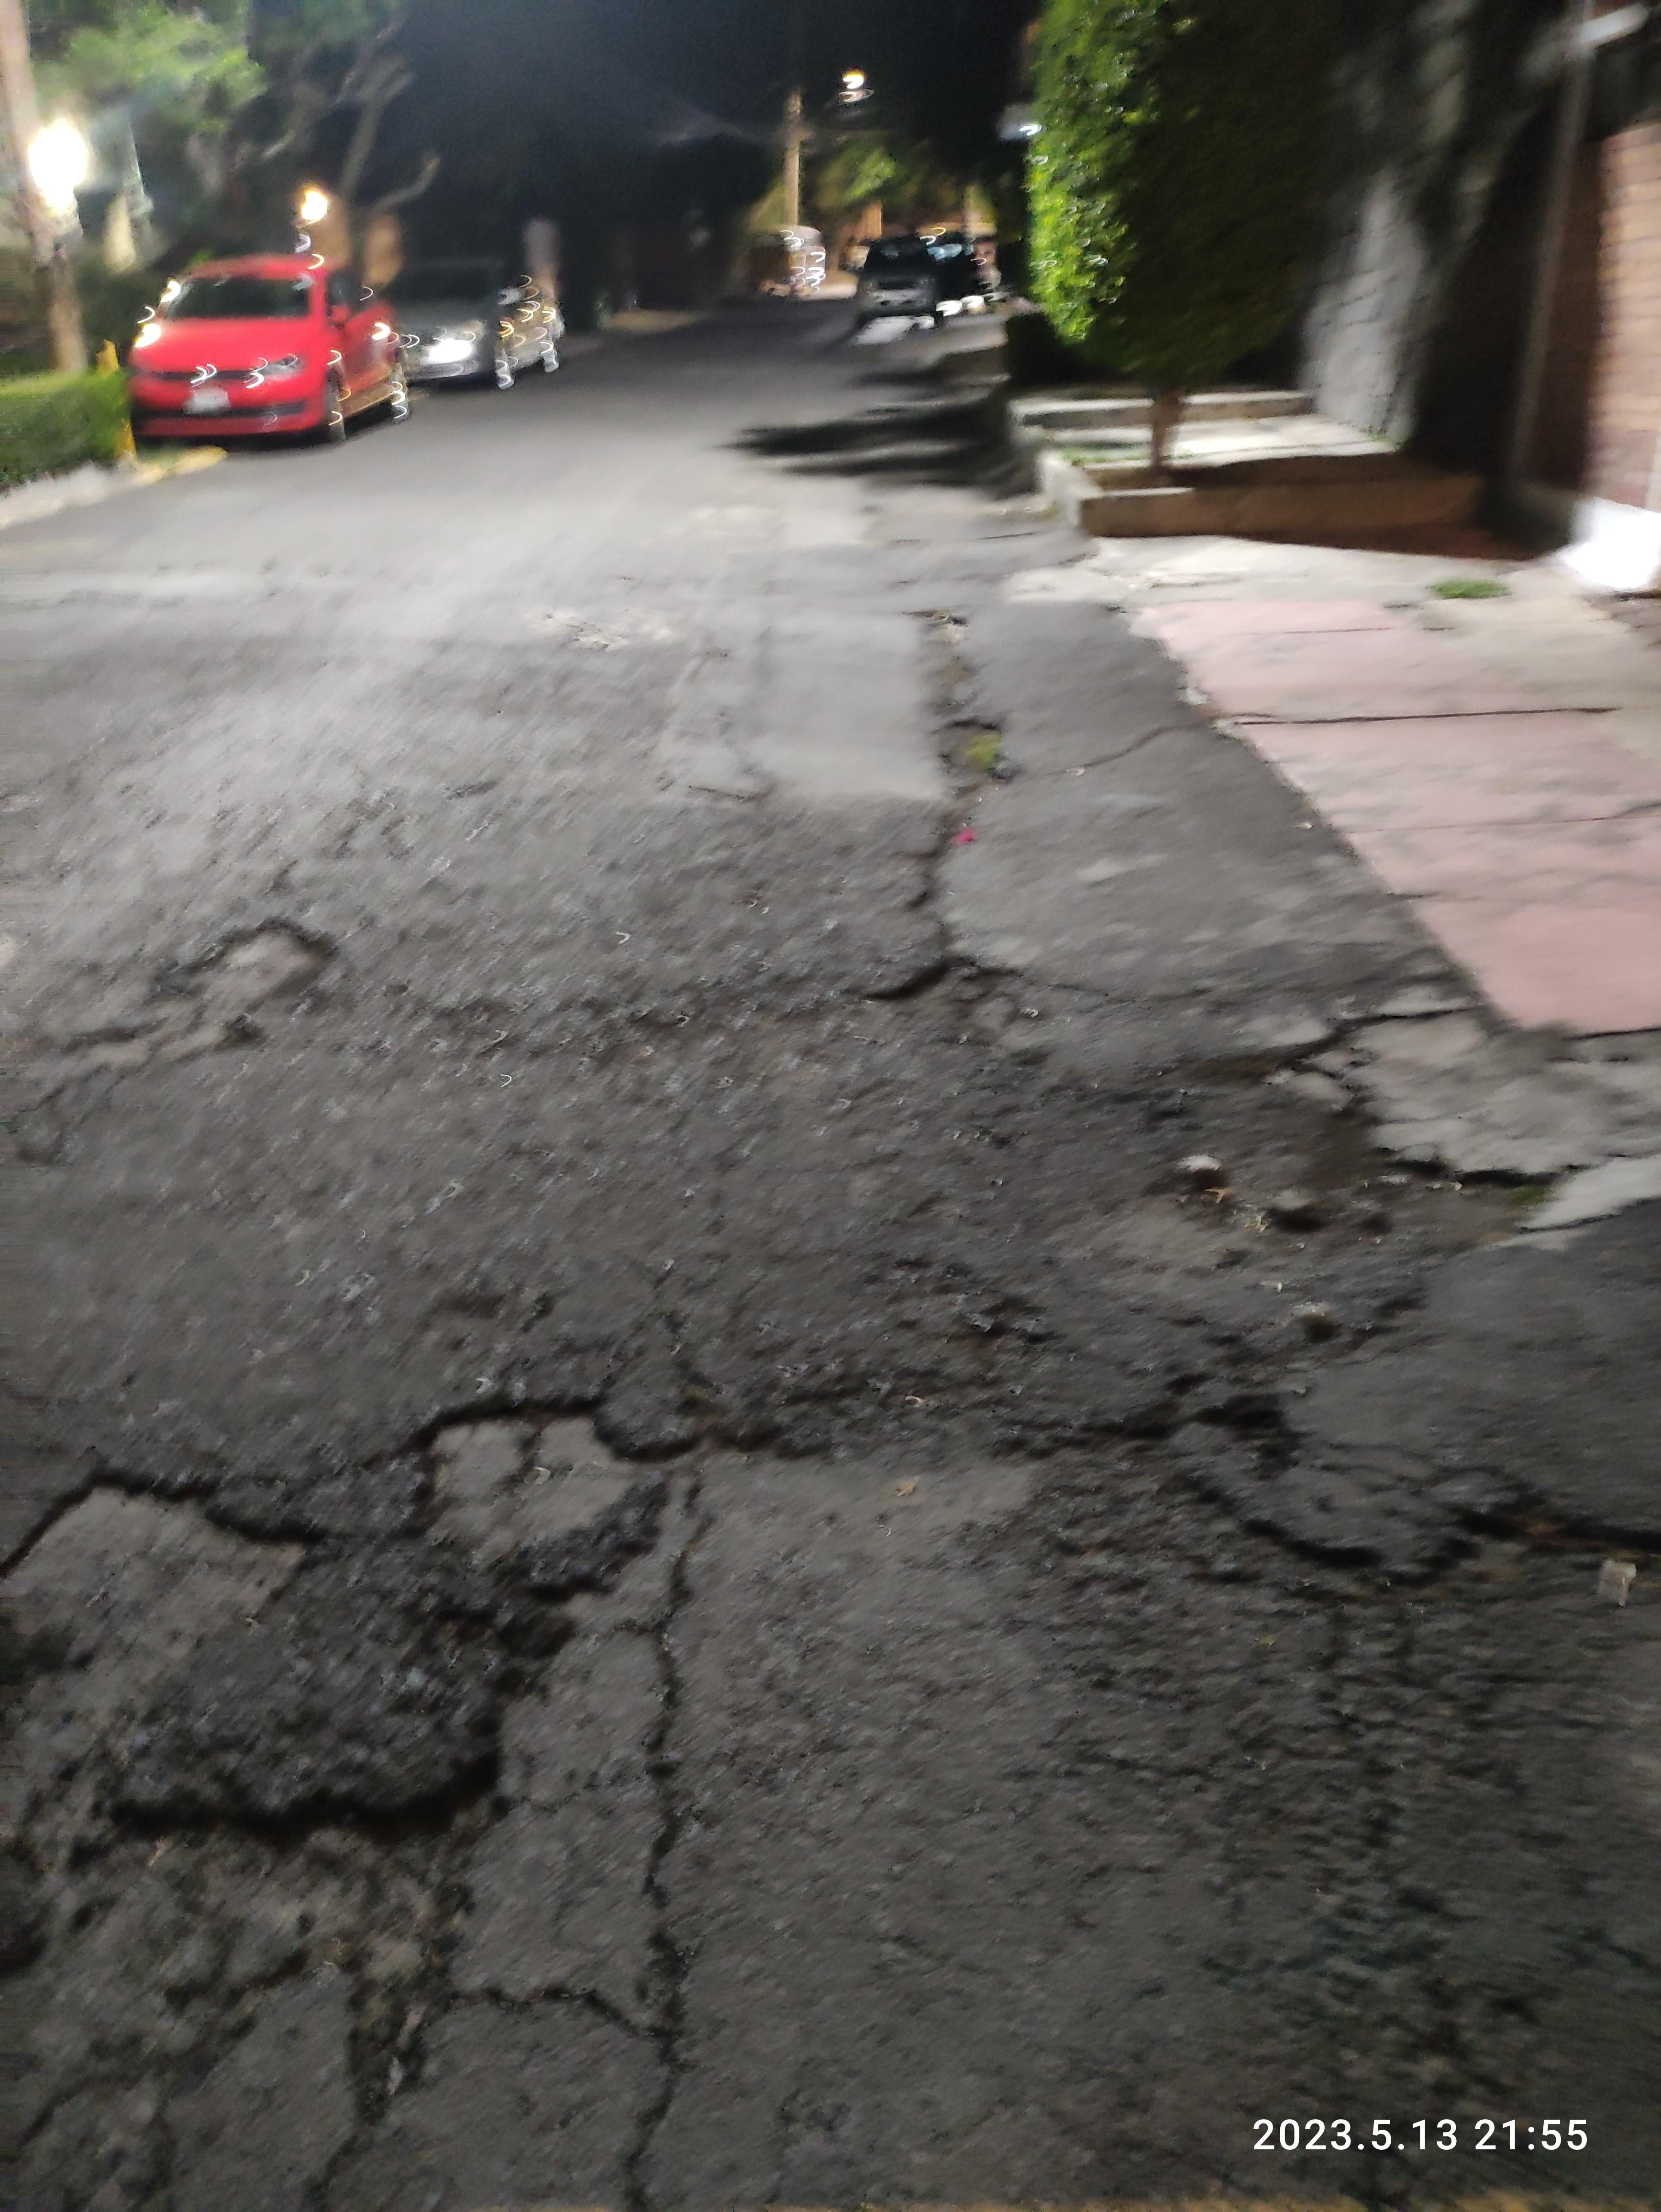alligator-crack: (0, 1704, 815, 2212)
pothole: (2, 834, 358, 1111), (10, 1422, 314, 1690), (342, 1361, 661, 1574), (1145, 1015, 1370, 1197), (834, 958, 1117, 1101), (1380, 1125, 1602, 1301), (906, 619, 1094, 776)
